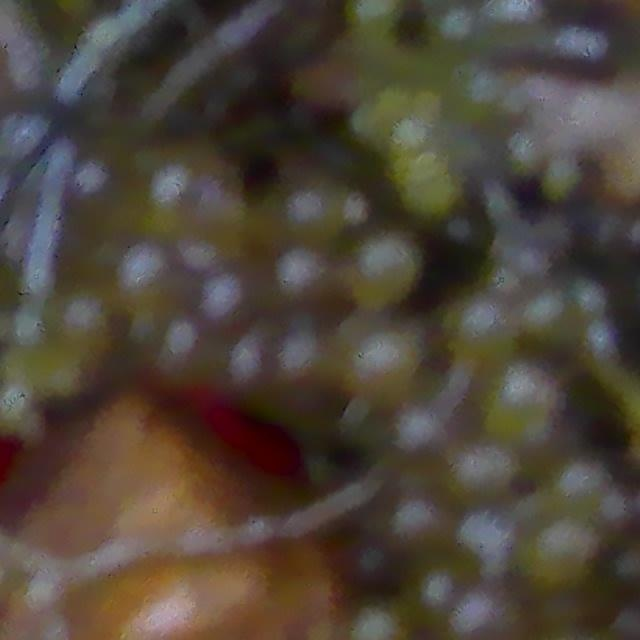SeaGrape: (479, 371, 562, 454), (450, 581, 533, 640), (346, 334, 420, 396), (448, 301, 520, 363), (443, 447, 520, 504), (388, 482, 436, 562), (526, 527, 587, 589), (267, 328, 330, 387), (118, 242, 178, 302), (355, 238, 416, 292), (150, 169, 211, 220), (273, 246, 329, 301), (199, 257, 250, 317)
